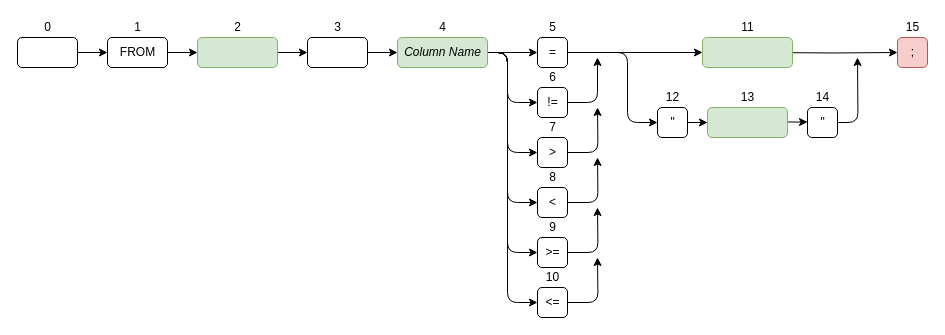
Some shapes in this 945 by 335 pixel diagram are drawn without their labels. The box of each missing label's shape, as (x1, y1, x2, y2) in pixels:
DELETE: (16, 36, 78, 68)
Numeric Value: (702, 36, 792, 68)
String Value: (706, 106, 788, 138)
Table Name: (196, 36, 278, 68)
WHERE: (306, 36, 368, 68)
